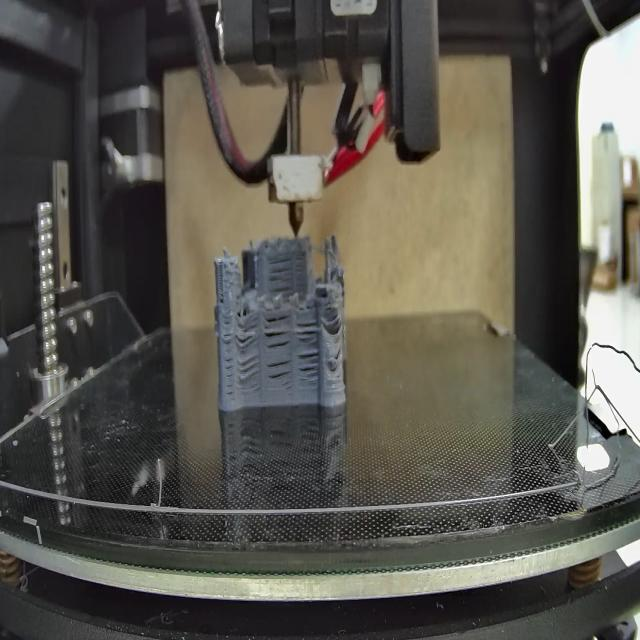cracks: (297, 318, 319, 382), (264, 308, 292, 350), (268, 255, 296, 296), (237, 354, 260, 390), (266, 359, 294, 388), (223, 324, 233, 396), (236, 321, 258, 350), (330, 308, 344, 330), (334, 346, 346, 365), (218, 291, 228, 308)
